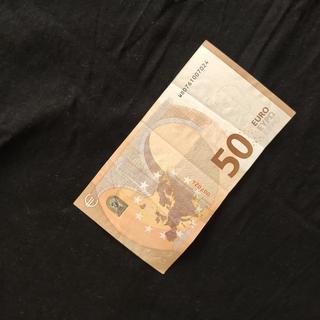50EUROBack: (71, 37, 298, 275)
